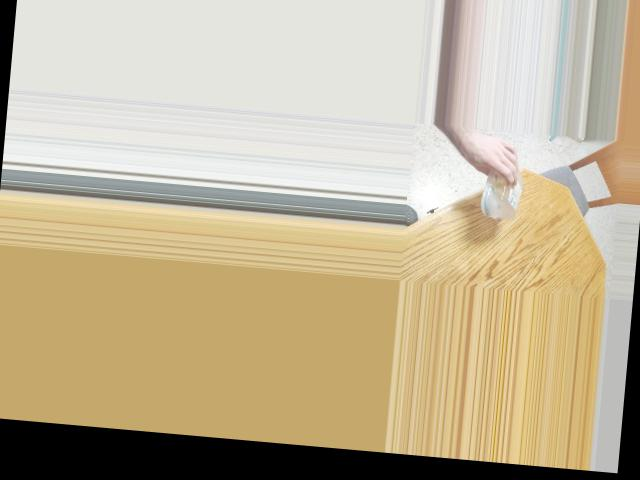cheese: (475, 150, 528, 213)
